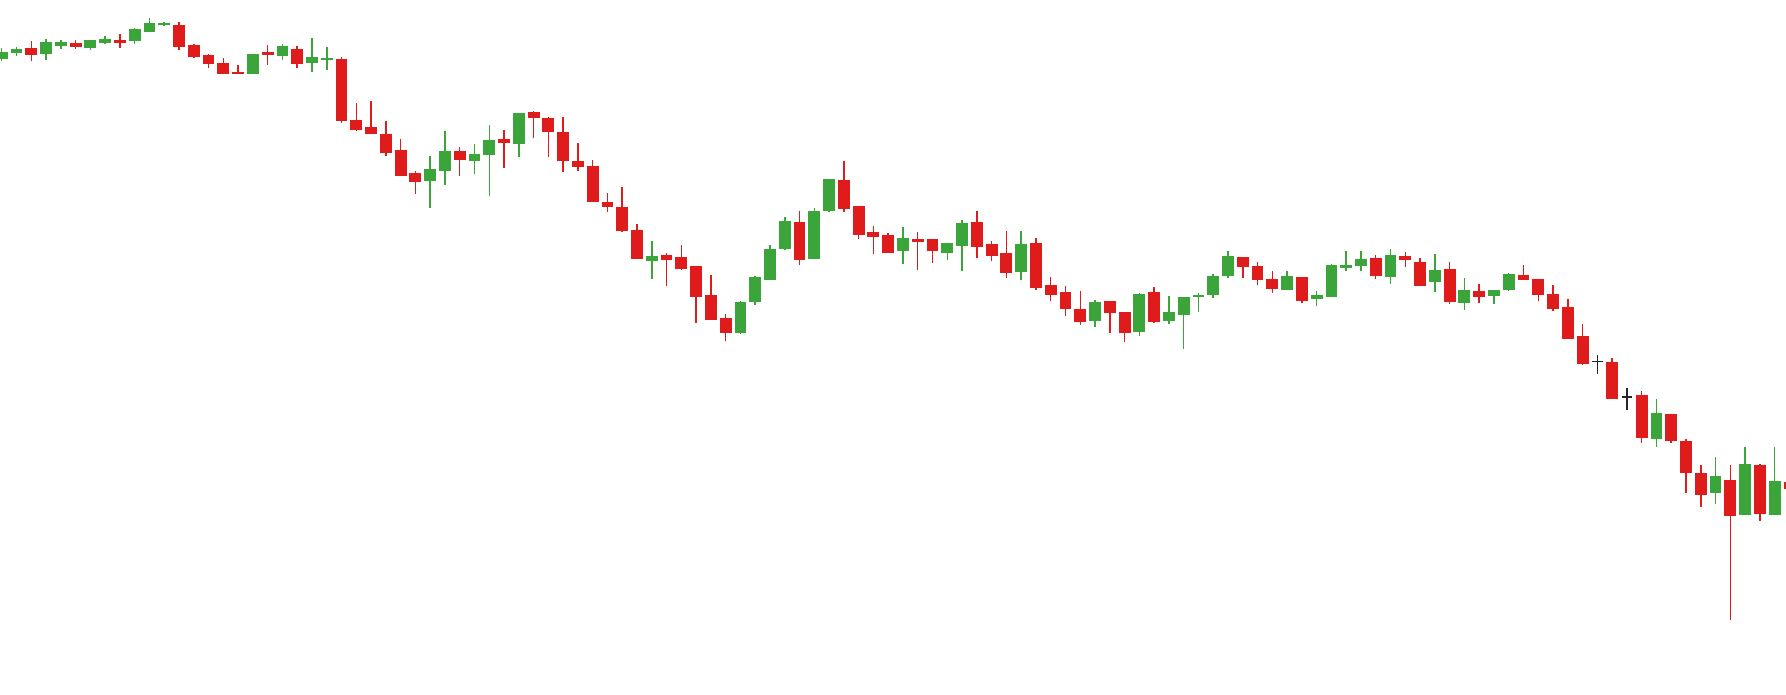buy: (1116, 301, 1193, 349)
